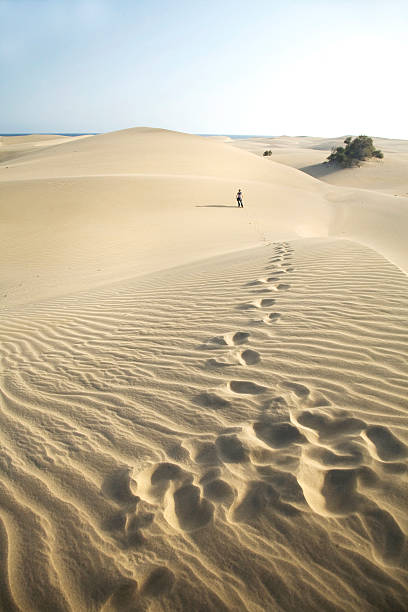human_footprint: (252, 381, 407, 566), (256, 380, 404, 563), (294, 404, 407, 565), (298, 459, 406, 565), (192, 427, 304, 521), (231, 397, 306, 525), (102, 462, 191, 549), (175, 426, 249, 530), (138, 462, 213, 531), (102, 466, 154, 548), (101, 565, 175, 611), (231, 474, 298, 523), (245, 243, 293, 293), (246, 243, 293, 291), (172, 483, 213, 530), (206, 332, 260, 367), (206, 331, 260, 366), (198, 379, 269, 405), (253, 418, 305, 448), (364, 425, 407, 461), (247, 255, 289, 291), (102, 466, 137, 505), (279, 380, 329, 407), (200, 467, 234, 505), (206, 348, 260, 367), (216, 433, 248, 462), (201, 331, 249, 348), (193, 391, 230, 409), (228, 380, 267, 394), (237, 297, 275, 309), (240, 349, 260, 364), (244, 277, 267, 286), (267, 269, 284, 281), (260, 298, 276, 308), (264, 312, 280, 322), (274, 282, 290, 290), (267, 273, 279, 282), (268, 256, 281, 263), (283, 266, 295, 273)
